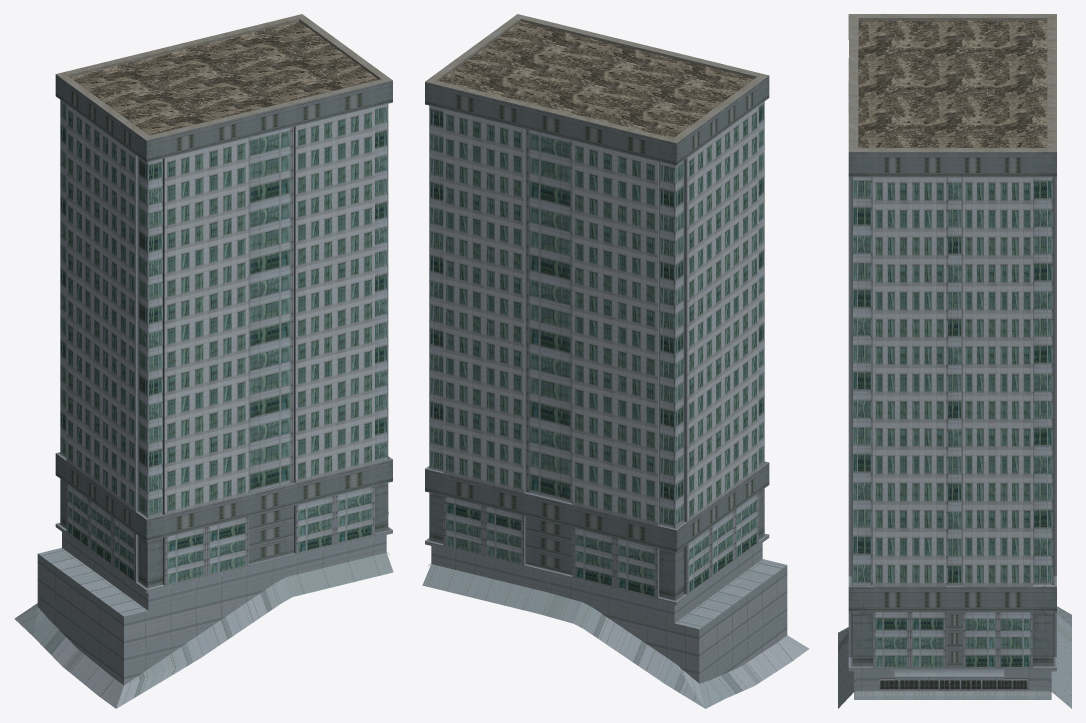
The model's file is grnwhite_sfe.obj.
3 views of the same model, side by side, from view 1: azimuth 30°, elevation 25°; view 2: azimuth 150°, elevation 25°; view 3: azimuth 270°, elevation 25° (orthographic). The views are drawn at different scales.
Parts seen in each view (by area): view 1: grnwhite_sfe; view 2: grnwhite_sfe; view 3: grnwhite_sfe.
Part boxes in pixels (left/top/right/bottom): grnwhite_sfe: left=14, top=14, right=393, bottom=708; grnwhite_sfe: left=422, top=14, right=809, bottom=708; grnwhite_sfe: left=838, top=14, right=1071, bottom=708.
Bounding box in the file's own units: 73.54 × 131 × 43.64.
Materials: 10 (10 with a texture image).
